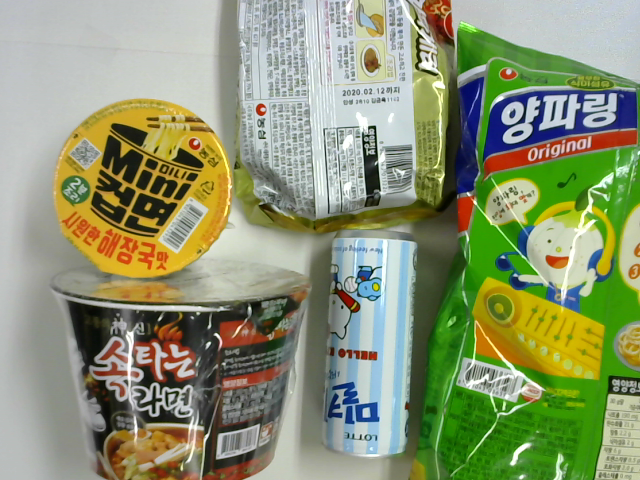HeJangsock: (37, 275, 304, 480)
Milkies_250ml: (308, 212, 422, 446)
Olive_Chapaghetti: (232, 1, 455, 208)
Oninon_Ring: (433, 35, 640, 477)
Udongmini: (58, 107, 226, 273)
